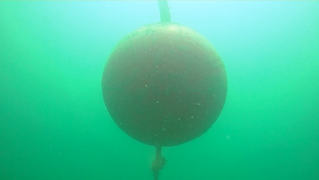bubble: (225, 134, 231, 140)
buoy: (101, 21, 228, 148)
